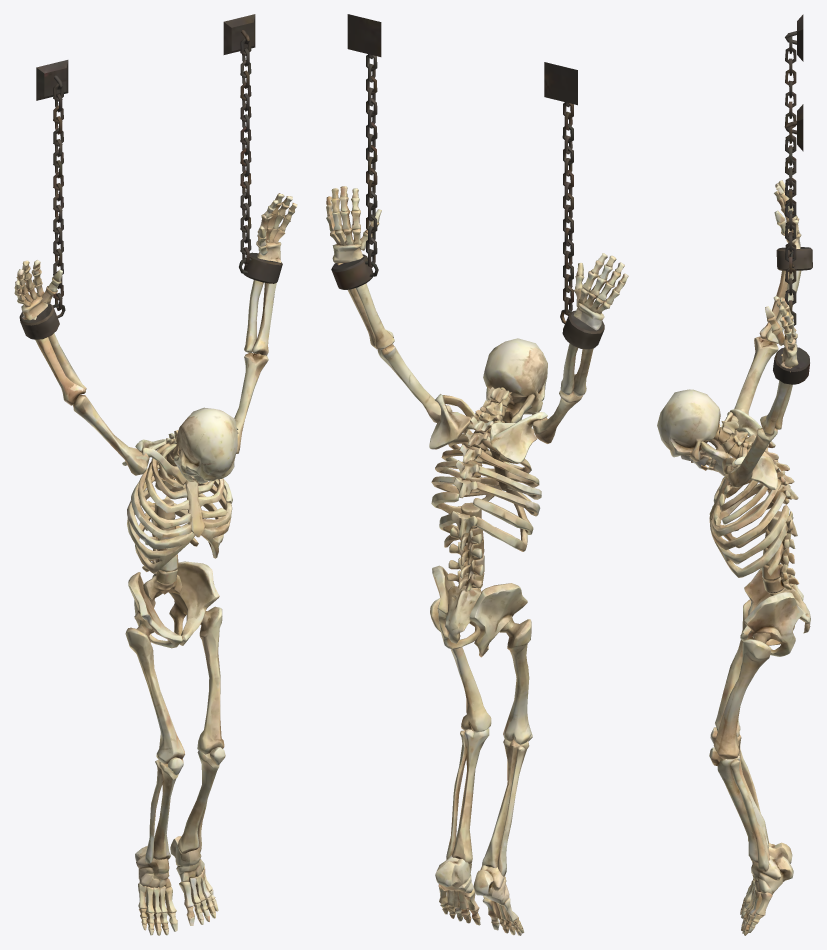
3 views of the same model, side by side, from view 1: azimuth 30°, elevation 25°; view 2: azimuth 150°, elevation 25°; view 3: azimuth 270°, elevation 25° (orthographic). The views are drawn at different scales.
Visible parts, largest first — view 1: SM_Skeleton_Hanging_02_v1_LOD0; view 2: SM_Skeleton_Hanging_02_v1_LOD0; view 3: SM_Skeleton_Hanging_02_v1_LOD0.
Part boxes in pixels (x1,y1,x2,y2): SM_Skeleton_Hanging_02_v1_LOD0: [14, 14, 297, 935]; SM_Skeleton_Hanging_02_v1_LOD0: [326, 14, 628, 935]; SM_Skeleton_Hanging_02_v1_LOD0: [657, 14, 812, 935].
Size of the model in its own units: 1.02 by 2.98 by 0.4933.
2 materials, 2 textured.
